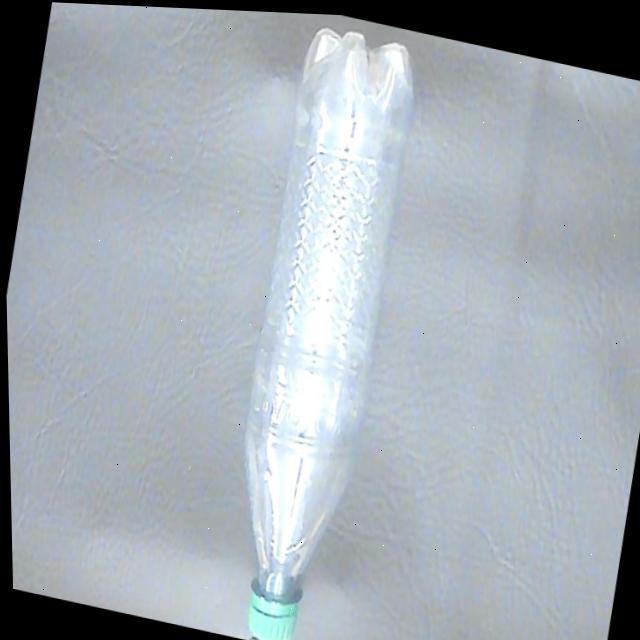Dry: (195, 11, 436, 640)
